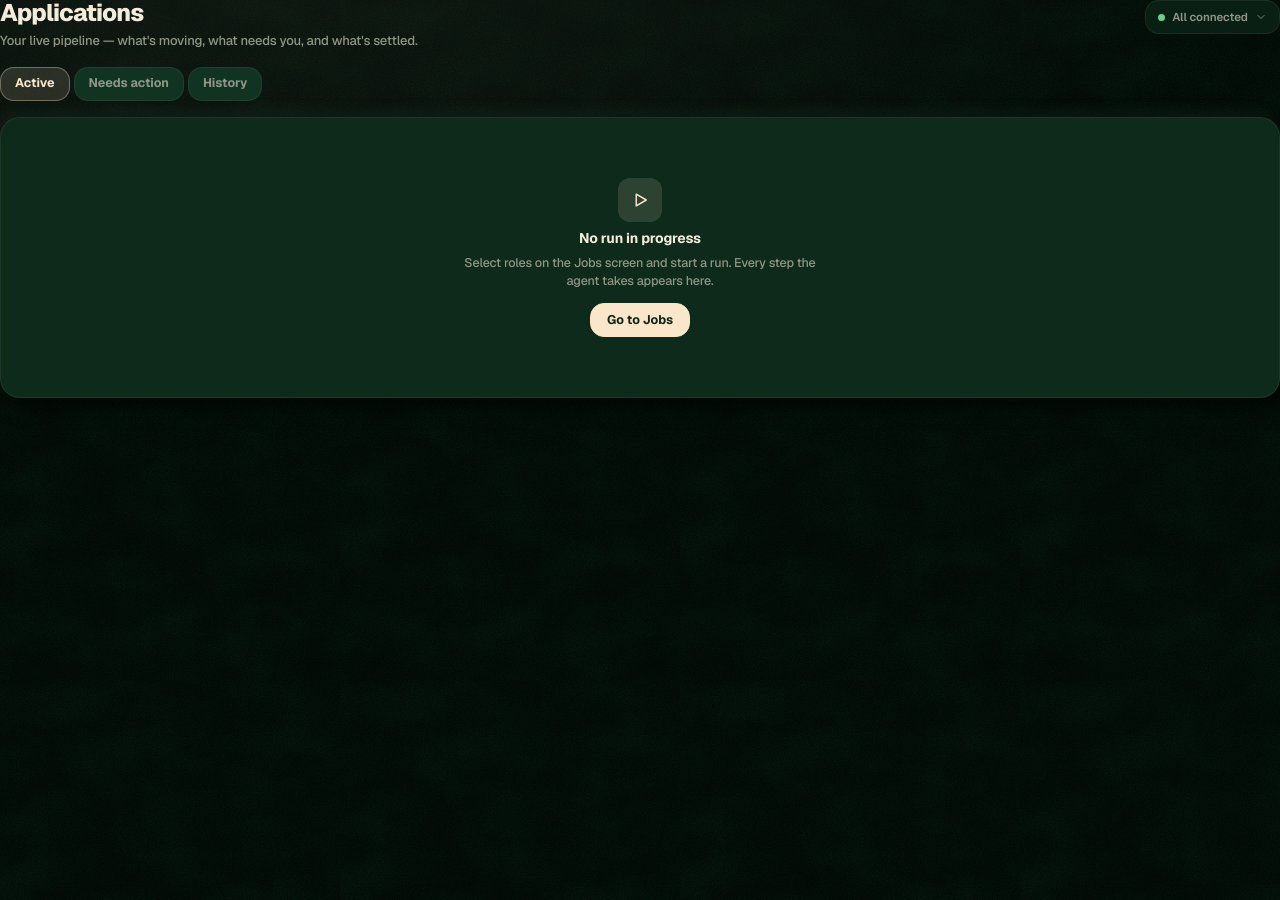
it: ApplicationsPage — merged Active / Needs action / History › History sub-tabs filter within the settled set
Click the tab "History".
click(225, 84)  # box [188, 67, 262, 101]
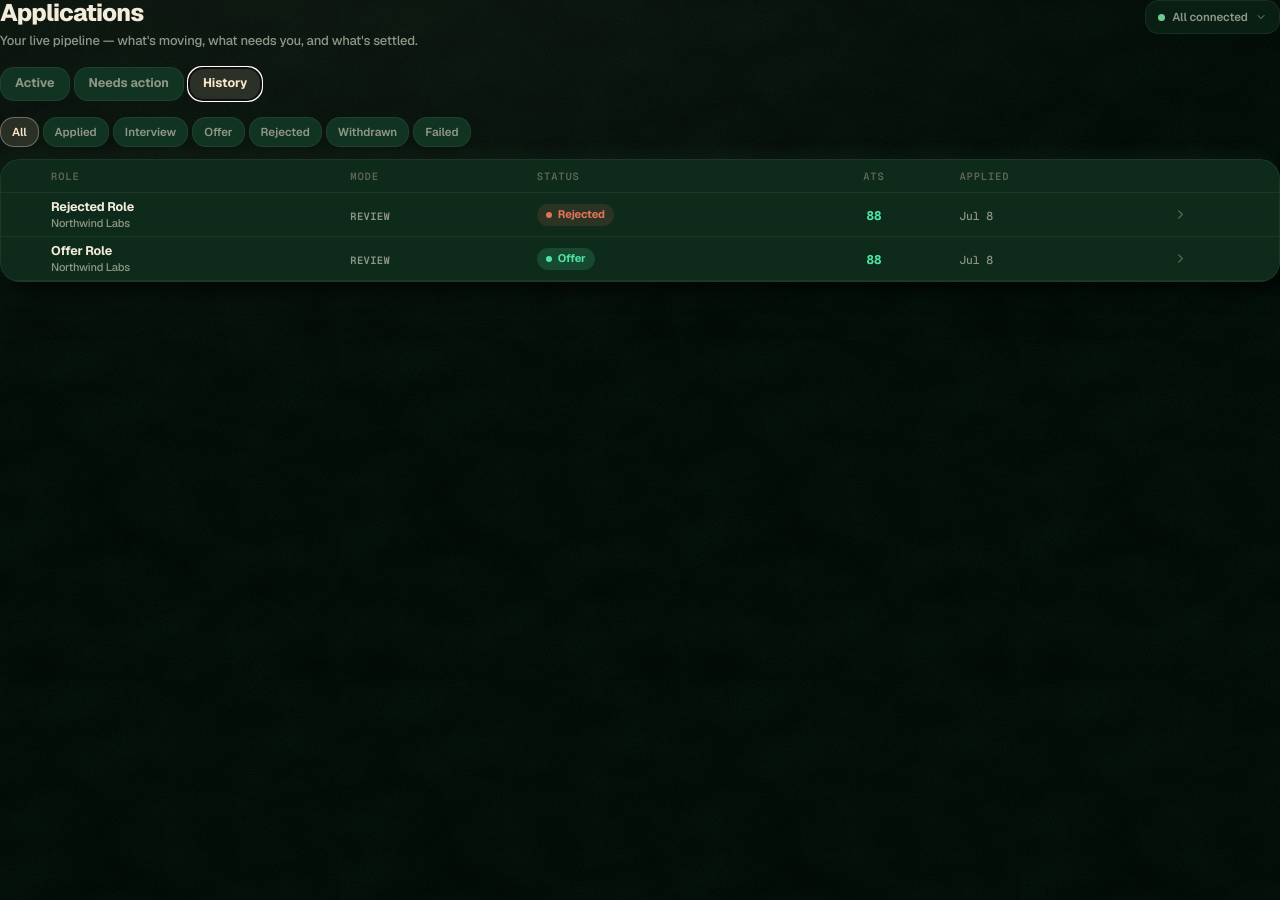
Now the text "Rejected Role" is shown, box [51, 198, 134, 215]
Now the text "Offer Role" is shown, box [51, 242, 112, 259]
Click the tab "Offer".
click(218, 132)  # box [192, 117, 244, 147]
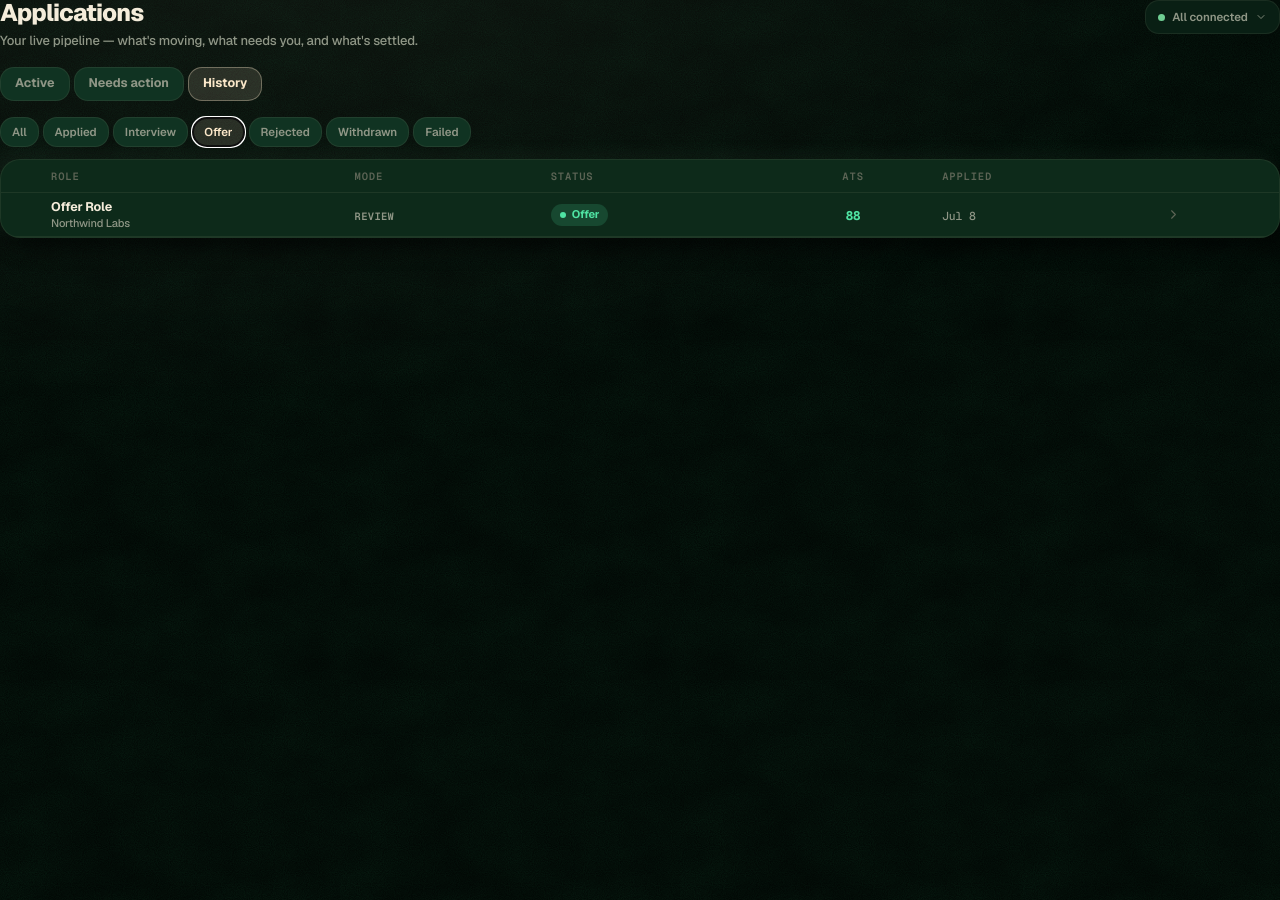
Now the text "Offer Role" is shown, box [51, 198, 112, 215]
Now the text "Rejected Role" is gone
